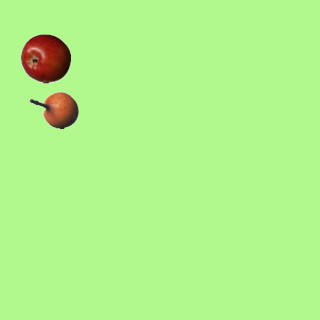Apple Braeburn: (20, 33, 70, 83)
Granadilla: (28, 85, 78, 135)
